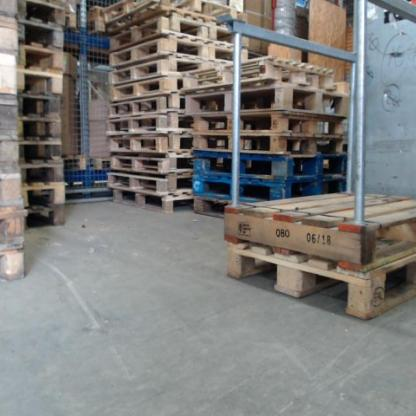pallet: (225, 237, 416, 320), (222, 187, 416, 264), (183, 60, 331, 89), (186, 90, 349, 116), (112, 37, 238, 66), (194, 154, 347, 177), (194, 117, 346, 139), (109, 57, 202, 87), (112, 28, 233, 51), (192, 178, 344, 196), (194, 139, 346, 154), (107, 93, 186, 118), (109, 190, 191, 214), (112, 78, 185, 104), (109, 135, 195, 155), (109, 155, 192, 175), (107, 118, 195, 135), (13, 66, 64, 95), (108, 175, 192, 192), (19, 18, 66, 48), (17, 95, 61, 120), (17, 161, 66, 183), (23, 183, 66, 208), (0, 210, 25, 252), (2, 138, 25, 180), (13, 48, 66, 66), (23, 208, 68, 229), (1, 99, 25, 138), (17, 120, 61, 141), (17, 141, 61, 161), (2, 51, 20, 98), (19, 1, 66, 18), (193, 196, 231, 217), (0, 252, 28, 279), (1, 13, 20, 51), (2, 180, 25, 210)
